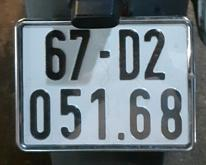0: (25, 86, 53, 141)
1: (89, 84, 110, 143)
2: (143, 25, 168, 82)
5: (57, 85, 85, 143)
6: (128, 87, 154, 141), (43, 29, 69, 81)
7: (68, 26, 93, 84)
8: (158, 86, 187, 141)
D: (114, 25, 145, 86)
